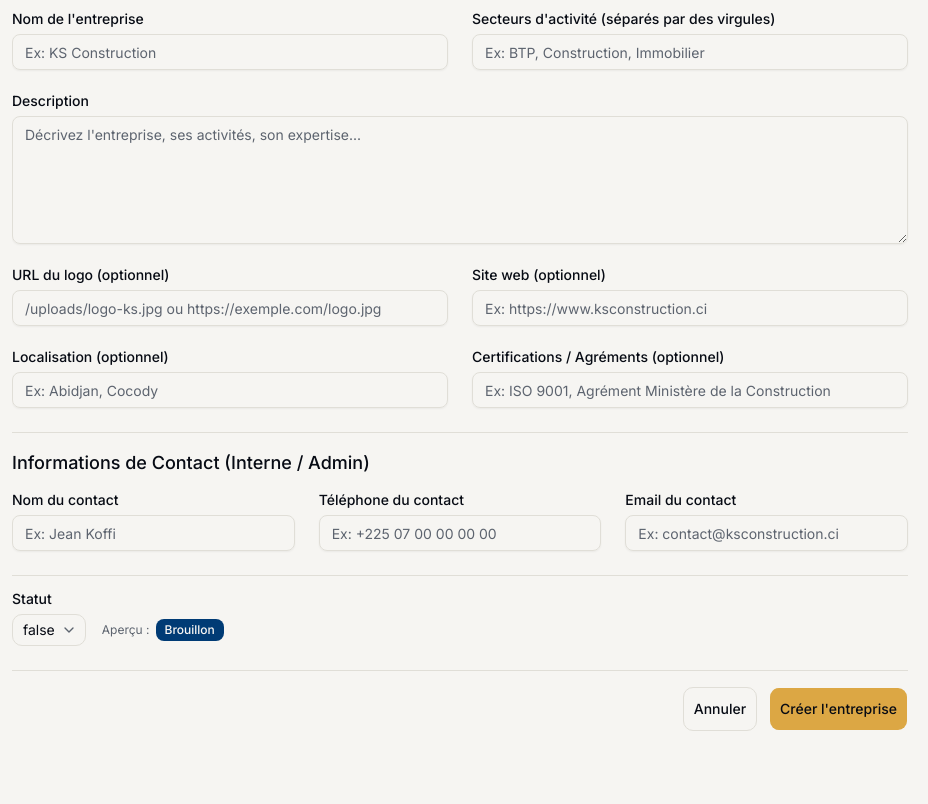
CompanyForm Component › shows validation errors for invalid inputs
Type "a" into the field with test id "company-name-input".
click(230, 52); type("a")  # box [12, 34, 448, 70]
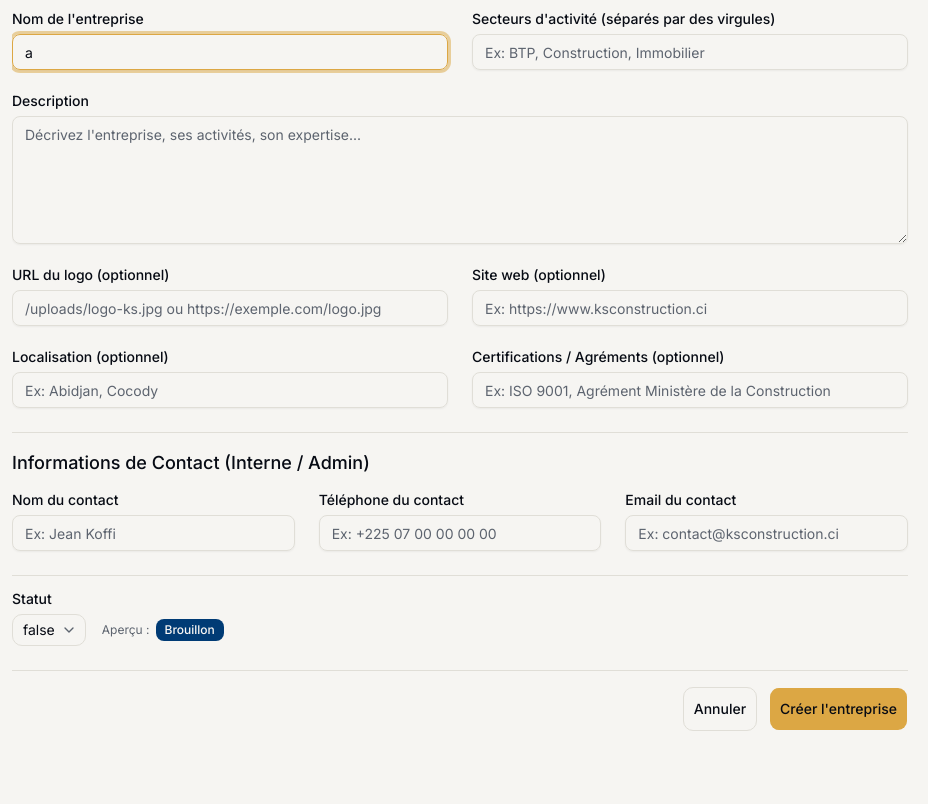
Type "short" into the text box with test id "company-description-input".
click(460, 180); type("short")  # box [12, 116, 908, 244]
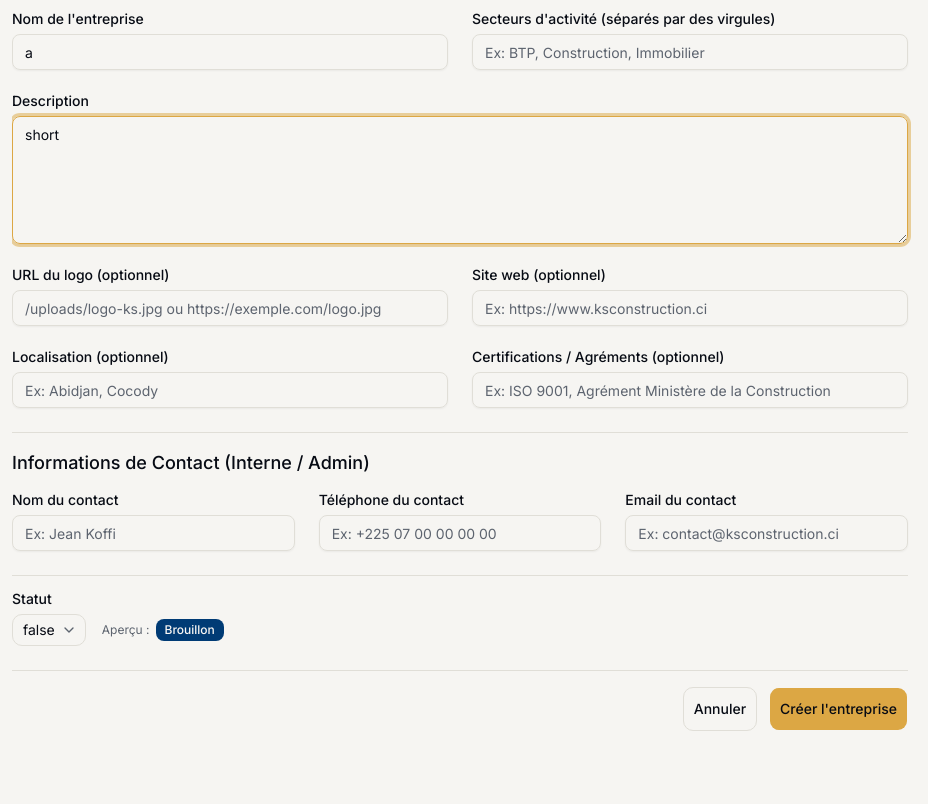
Click the button with test id "company-submit-button".
click(839, 709)  # box [769, 687, 908, 731]
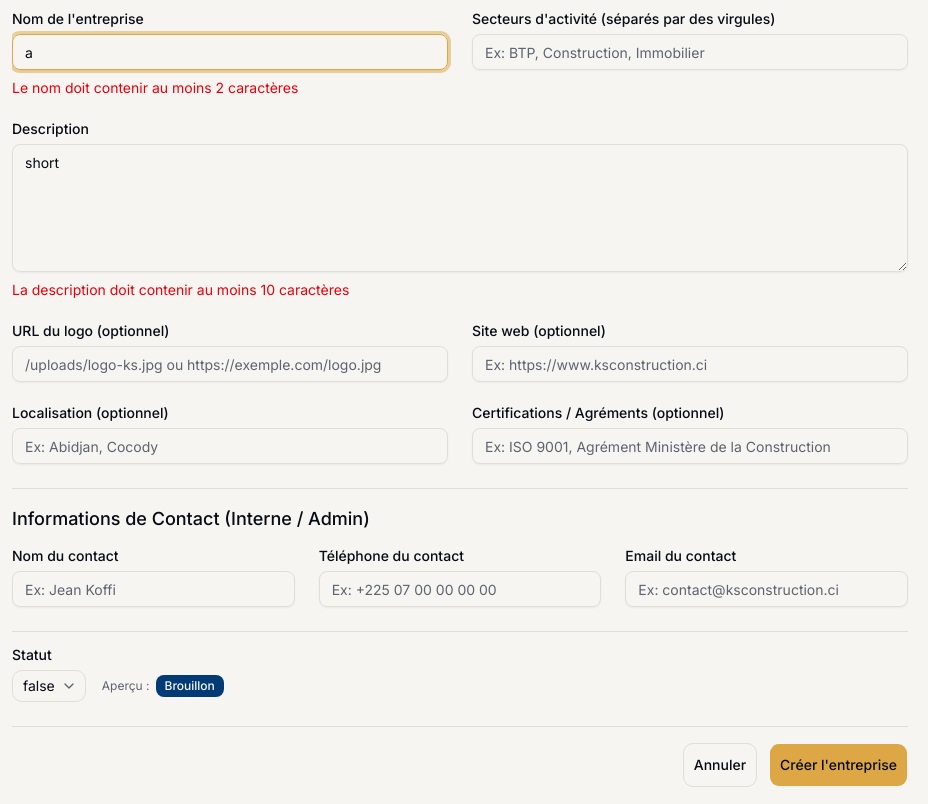
Expected: the text "Le nom doit contenir au moins 2 caractères" is shown, [12, 79, 298, 96]
Expected: the text "La description doit contenir au moins 10 caractères" is shown, [12, 281, 349, 298]
